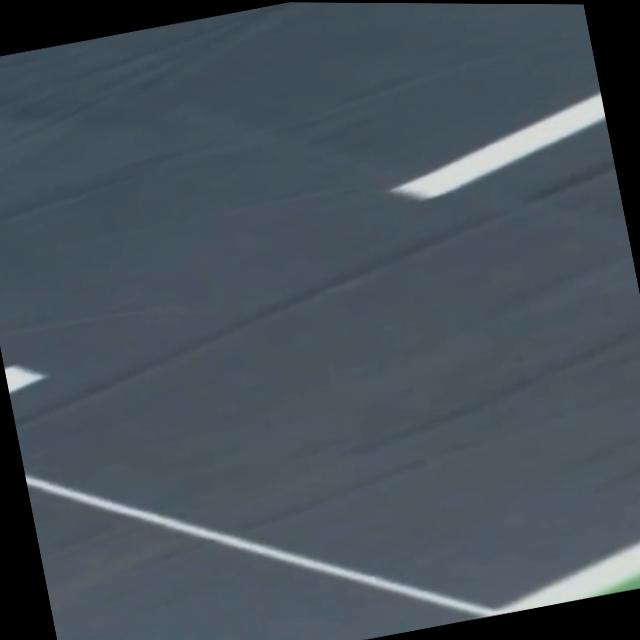center: (391, 92, 606, 198), (3, 365, 45, 393)
